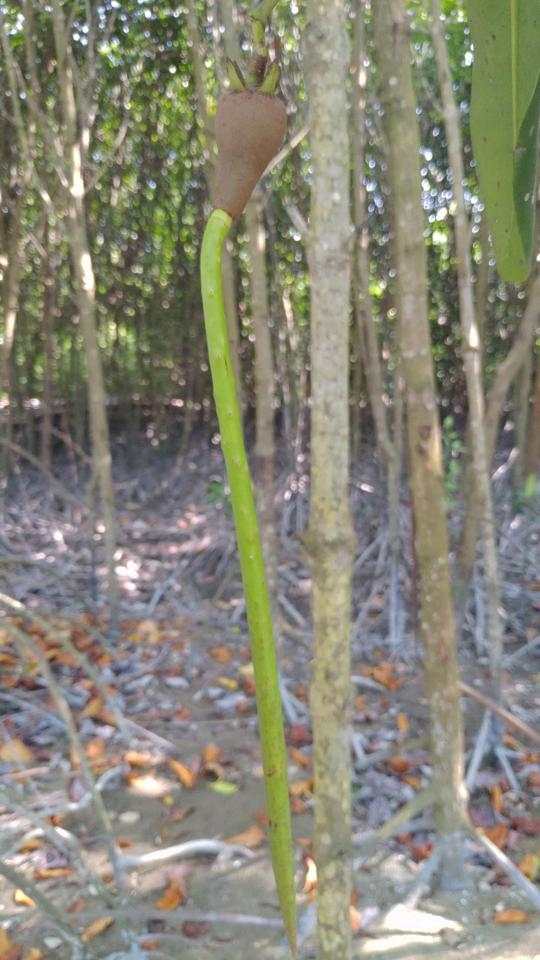setengah matang: (191, 48, 326, 951)
